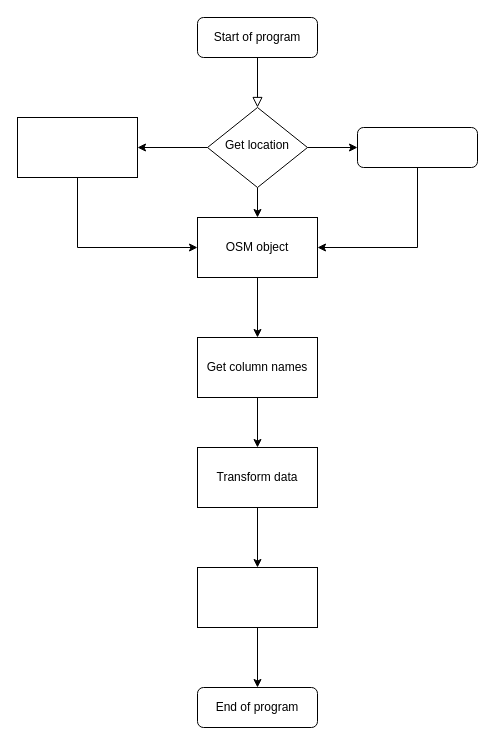
This 495x745 diagram has some shape labels left out. The shapes that lost their labels are listed below. From the top down, each one's centre as x and y in pixels, then its label:
At (x=77, y=147): "File already in folder".
At (x=417, y=147): "Download file".
At (x=257, y=597): "Upload data in specified format".
